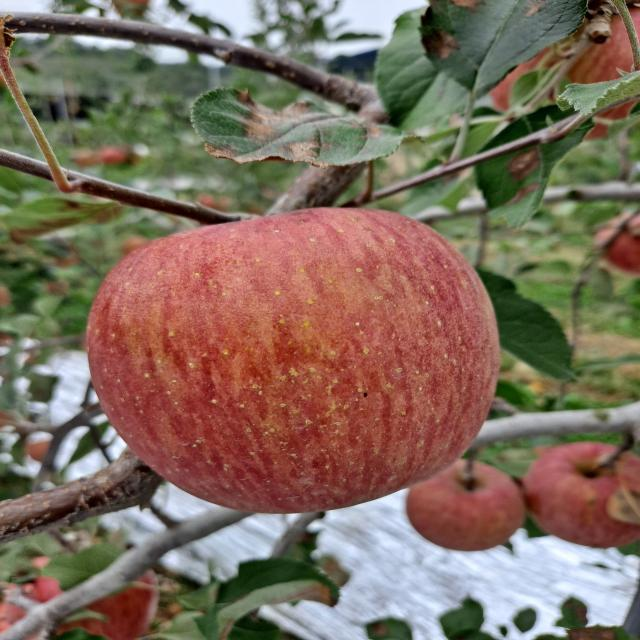fresh: (81, 197, 512, 522)
